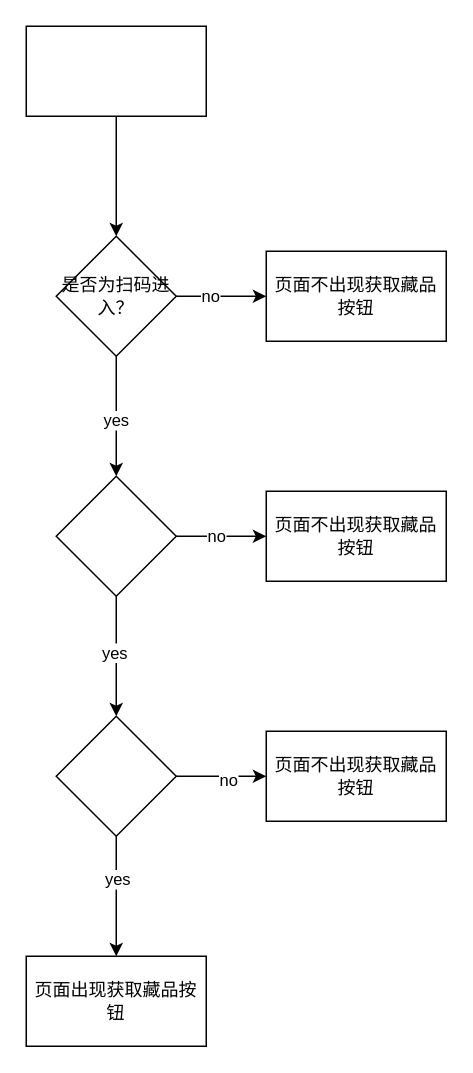
The diagram is 473 pixels wide and 1073 high, and some of its shapes have lost their labels. The shapes that lost their labels are listed below. From the top down, each one's box as (x1, y1, x2, y2) in pixels, then its label:
(25, 25, 206, 116): 进入作品详情页
(55, 475, 176, 596): 用户是否有作品推荐信息
(55, 715, 176, 836): 该作品是否在推荐作品中
